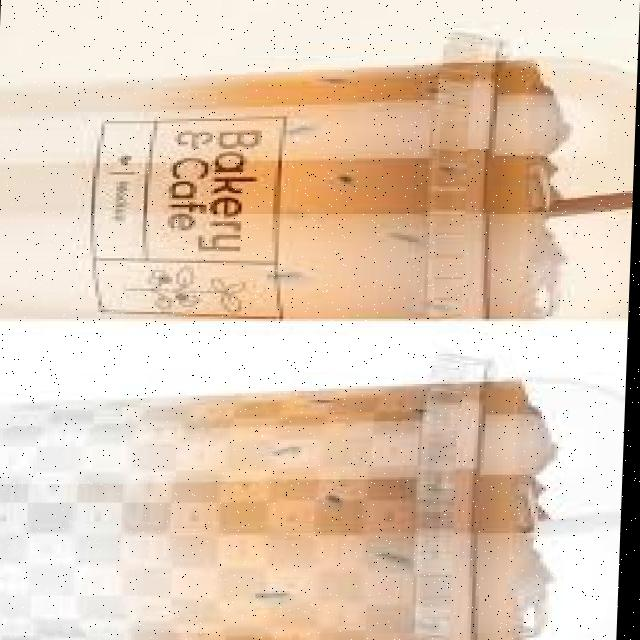cup: (0, 66, 495, 316), (0, 386, 484, 640)
